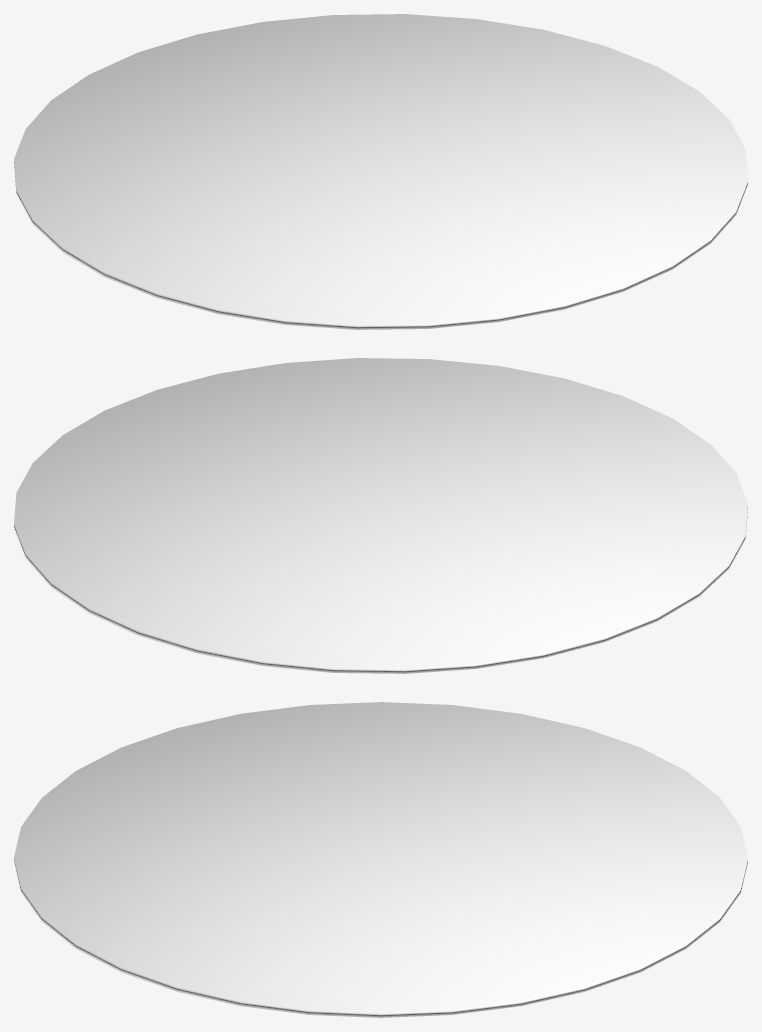
Rendered from foco.obj.
3 views of the same model, one above another, from view 1: azimuth 30°, elevation 25°; view 2: azimuth 150°, elevation 25°; view 3: azimuth 270°, elevation 25° (orthographic).
Parts seen in each view (by area): view 1: x_Zolla_Lightstar:Object004; view 2: x_Zolla_Lightstar:Object004; view 3: x_Zolla_Lightstar:Object004.
Part boxes in pixels (x1,y1,x2,y2): x_Zolla_Lightstar:Object004: [14, 14, 747, 329]; x_Zolla_Lightstar:Object004: [14, 358, 747, 673]; x_Zolla_Lightstar:Object004: [14, 702, 747, 1017].
Size of the model in its own units: 1.77 by 0.0152 by 1.77.
1 material, 1 textured.
